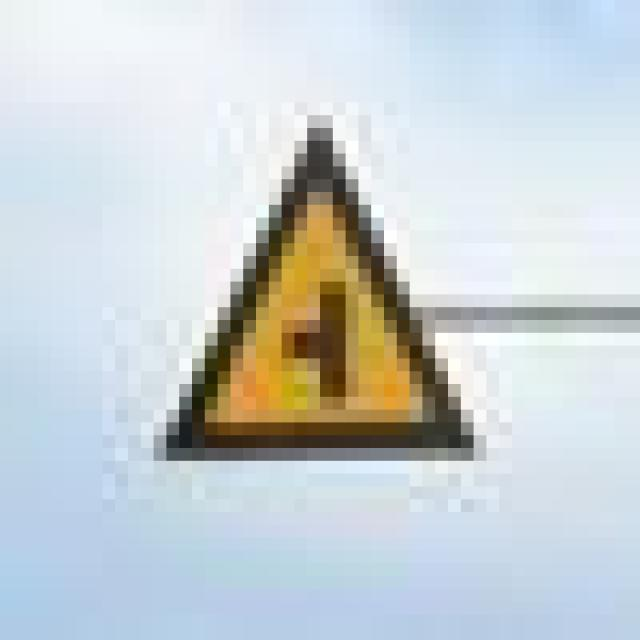side road left: (162, 109, 495, 477)
